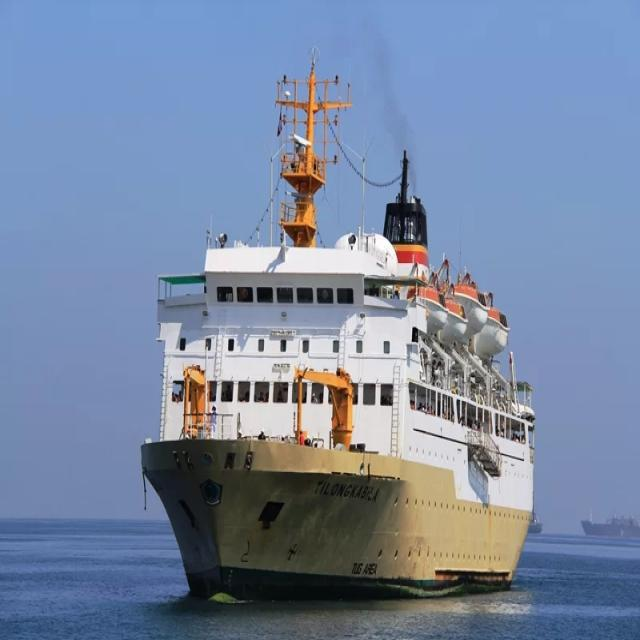PassengerShip: (101, 74, 508, 575)
